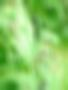Tomato leaf mosaic virus: (4, 0, 40, 56)
